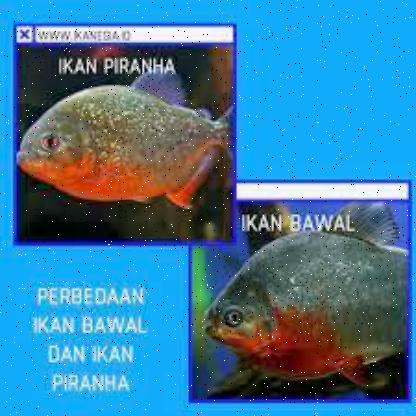ikan-pacu: (207, 233, 407, 379)
